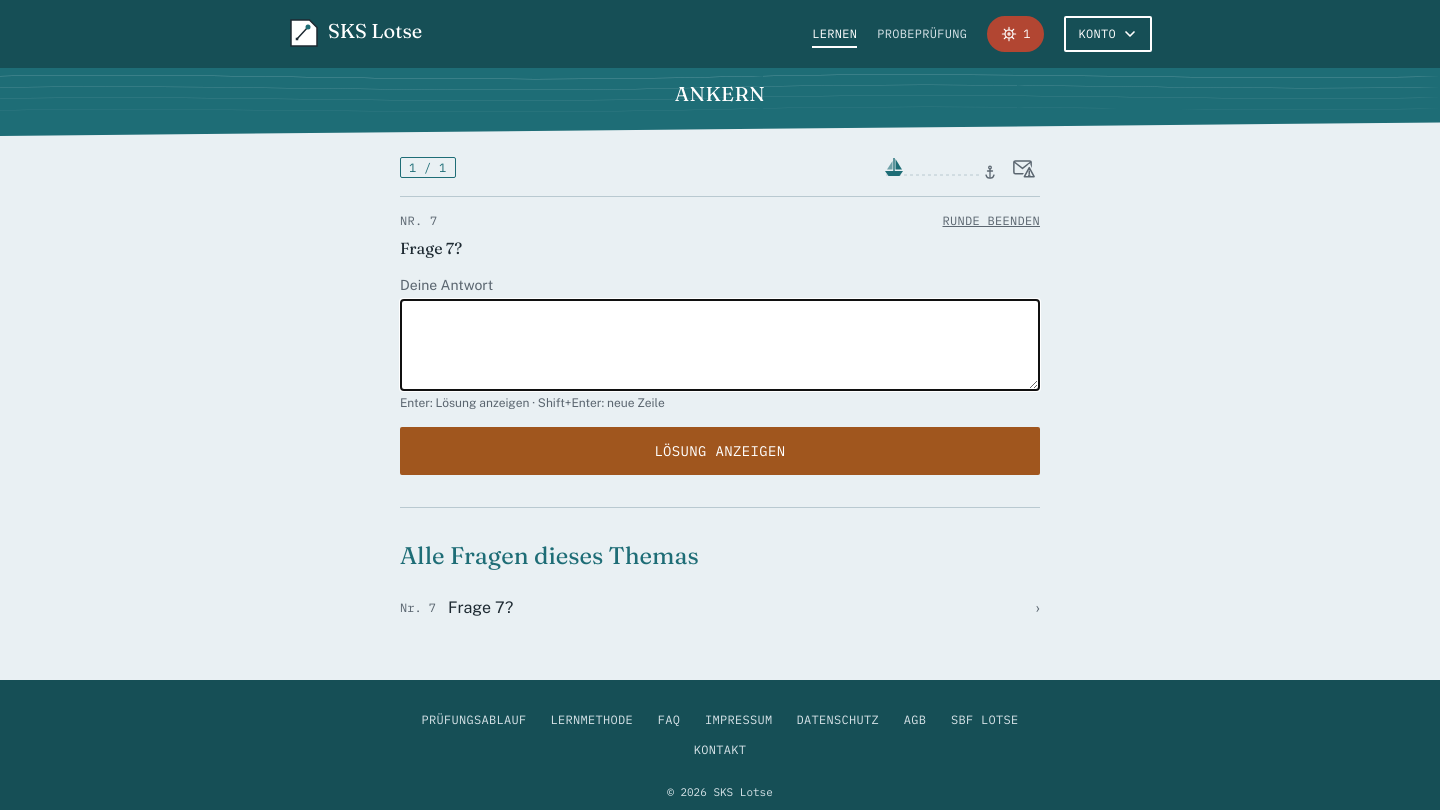
Test: PracticePage › preselects the AI suggestion, which the learner still saves
Type "irgendwas" into the text box labelled "Deine Antwort" at (720, 345), box [400,299,1040,391]
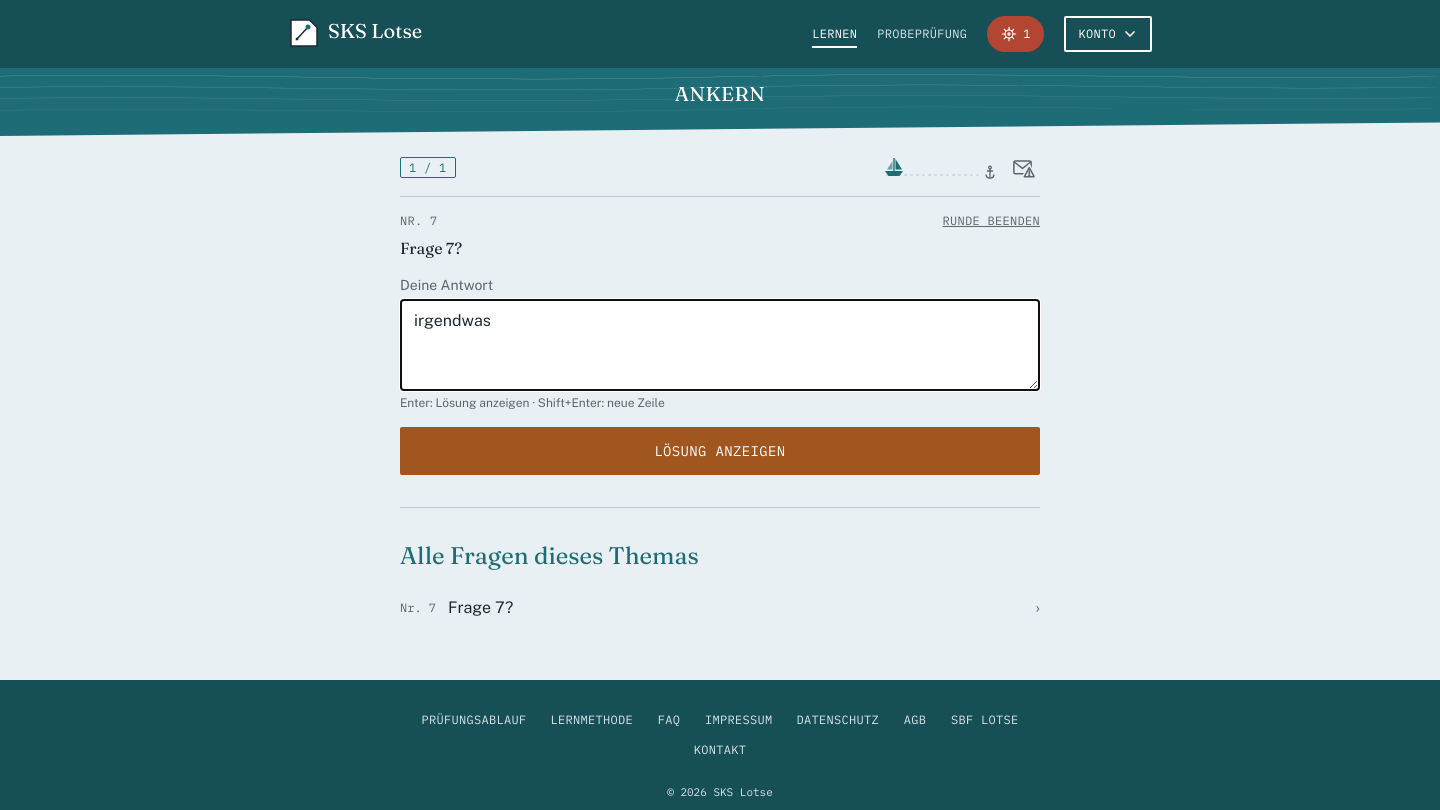
Click the button "Lösung anzeigen" at (720, 451), box [400,427,1040,475]
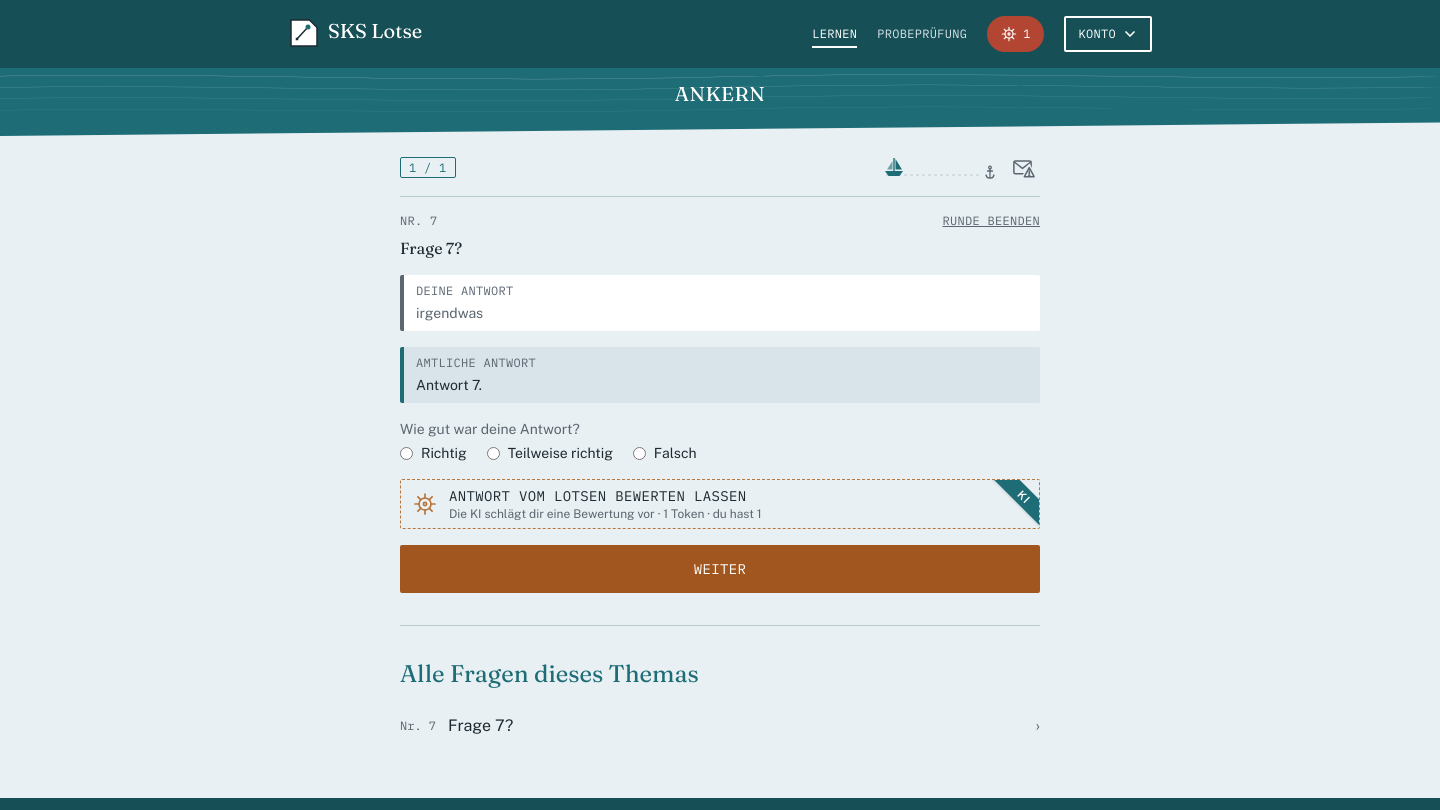
Click the button "Antwort vom Lotsen bewerten lassen" at (720, 504), box [400,479,1040,529]
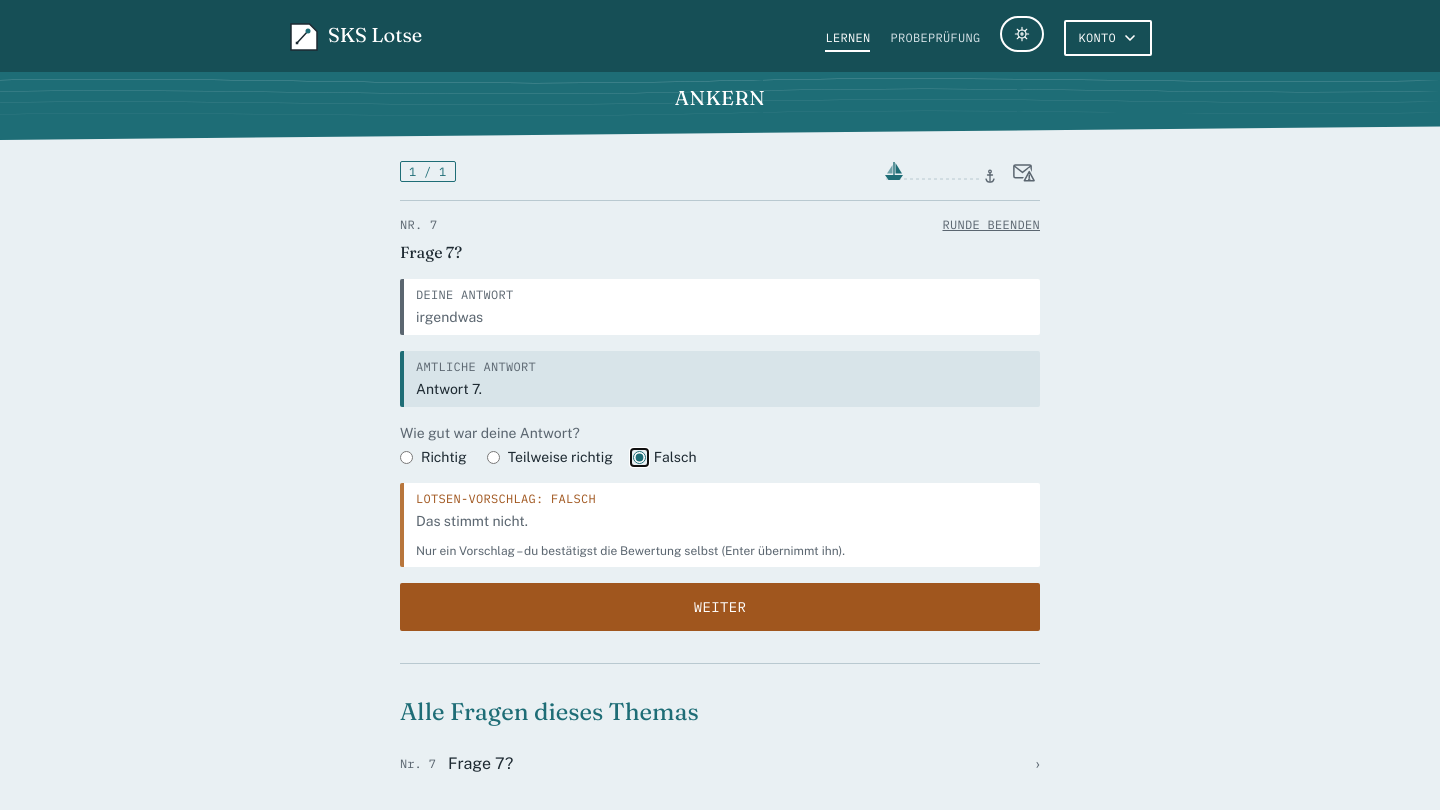
Now the text "Das stimmt nicht." is shown, box [416,513,528,529]
Now the radio button labelled "Falsch" is checked, box [633,450,646,464]
